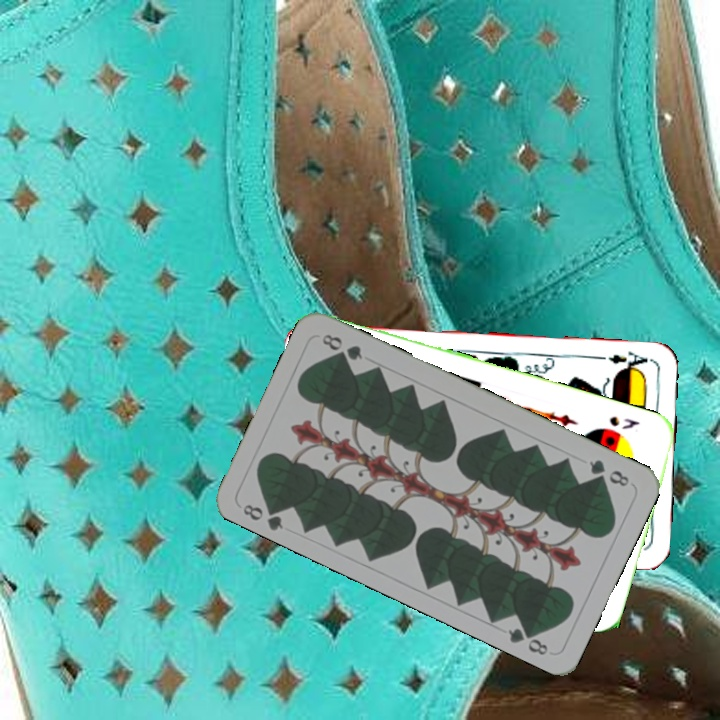EA: (595, 347, 655, 375)
G8: (238, 498, 286, 533), (585, 455, 632, 489)
SK: (605, 412, 643, 432)
